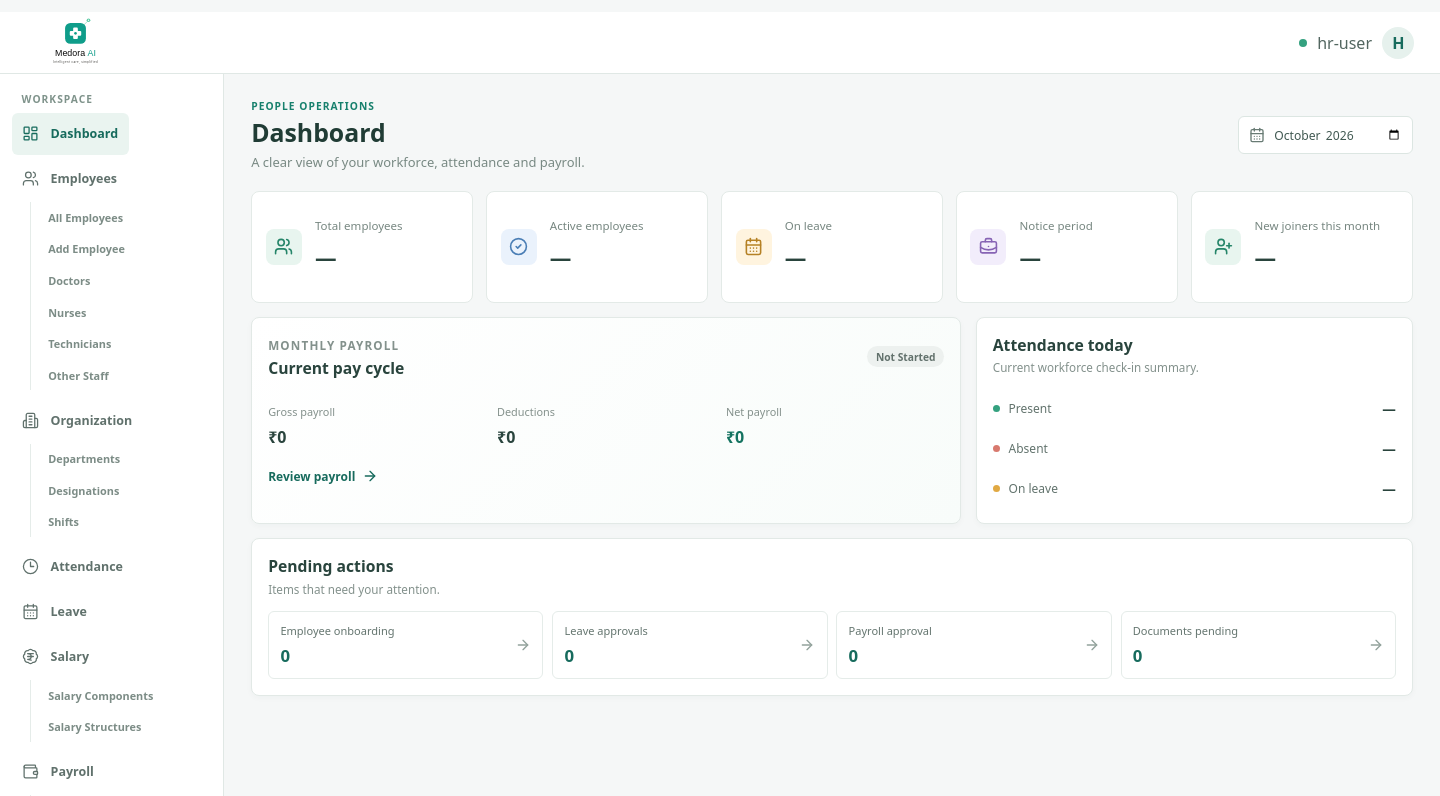
PayrollPage › shows salary components and salary structures one at a time
This screenshot has width=1440, height=796.
Click the button "Salary".
click(56, 657)  # box [12,636,100,678]
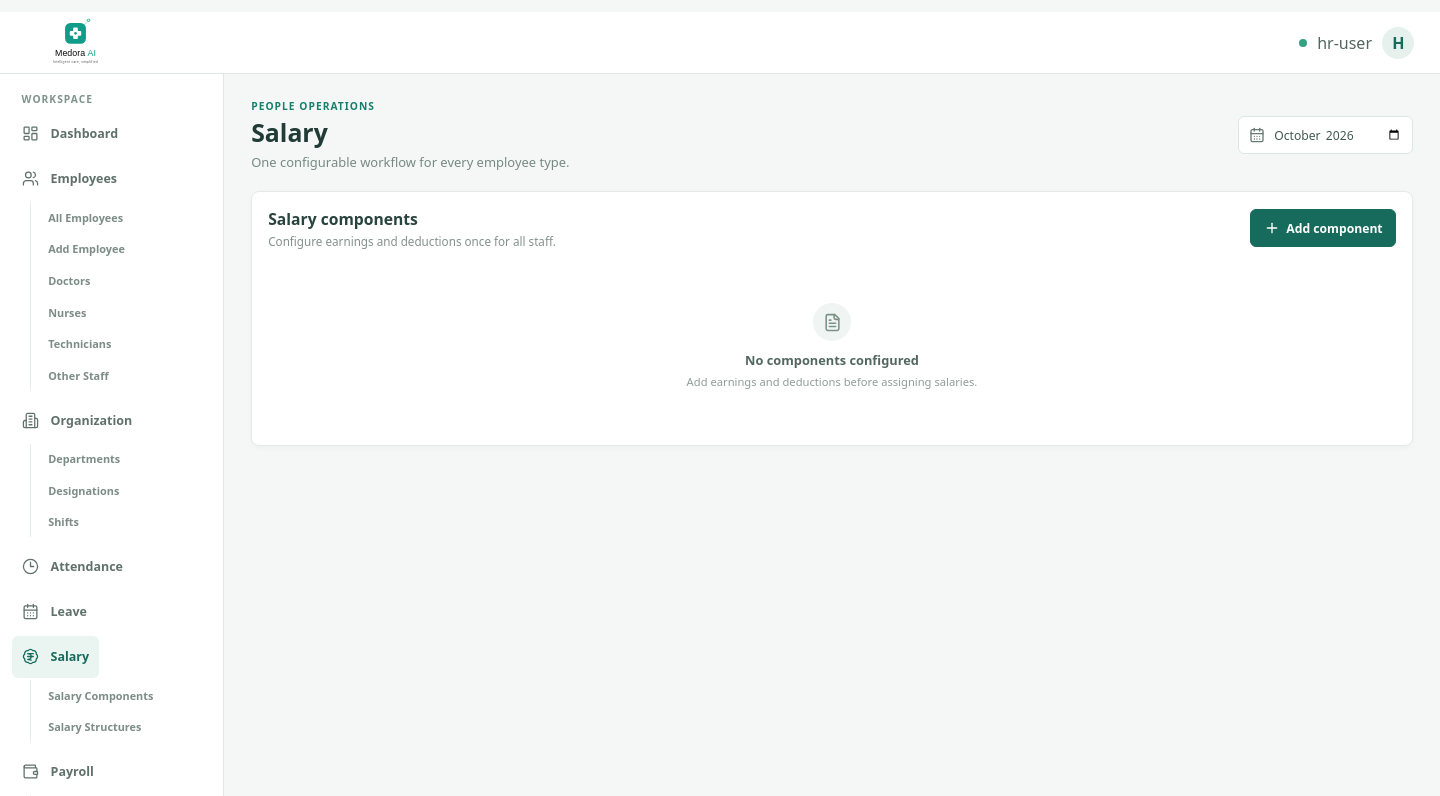
Expected: the text "Assign each employee their own effective-dated" is not shown
Now the text "No components configured" is shown, box [745,351,919,369]
Click the button "Salary Structures".
click(125, 727)  # box [39,712,211,742]
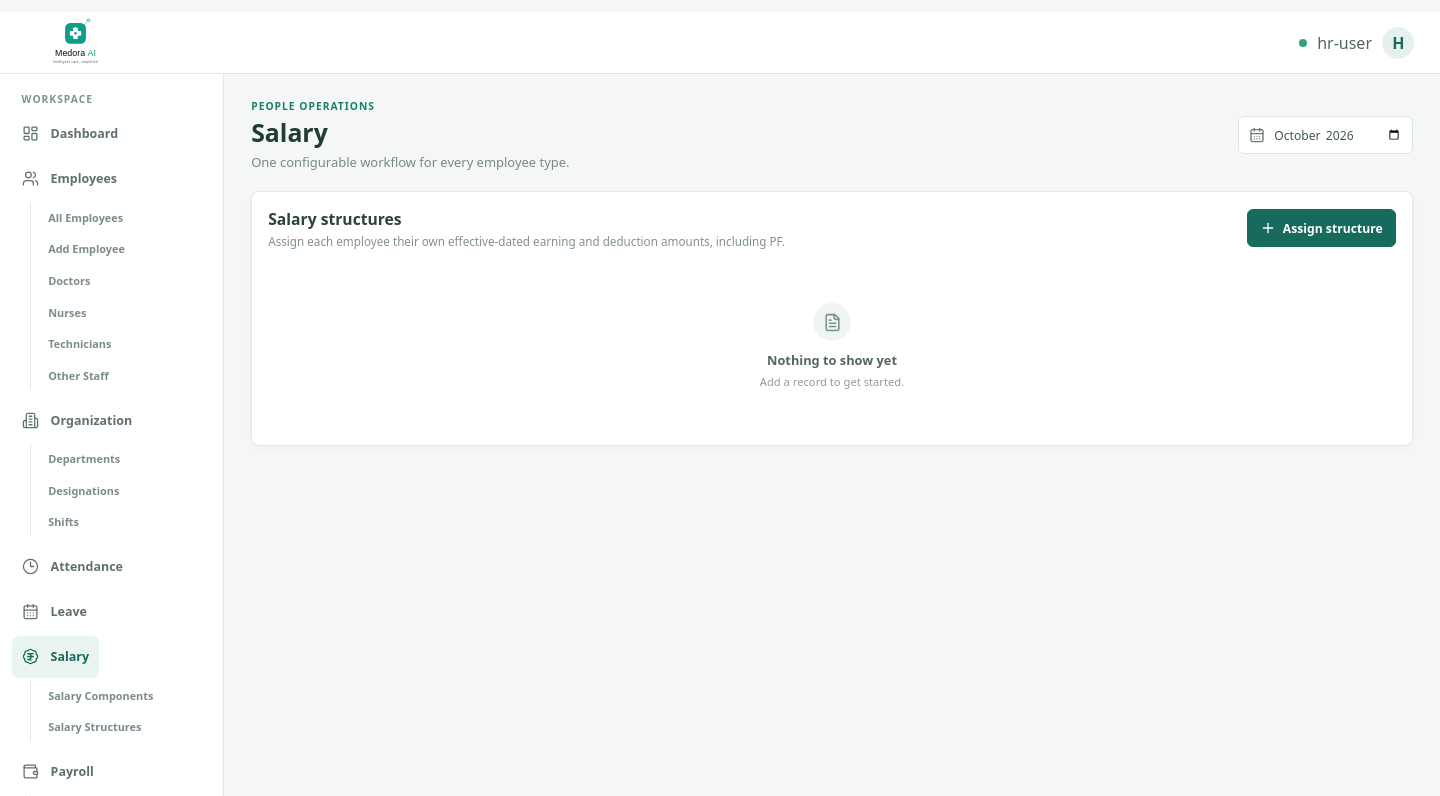
Now the text "Assign each employee their own effective-dated" is shown, box [268,234,785,249]
Now the text "No components configured" is gone
